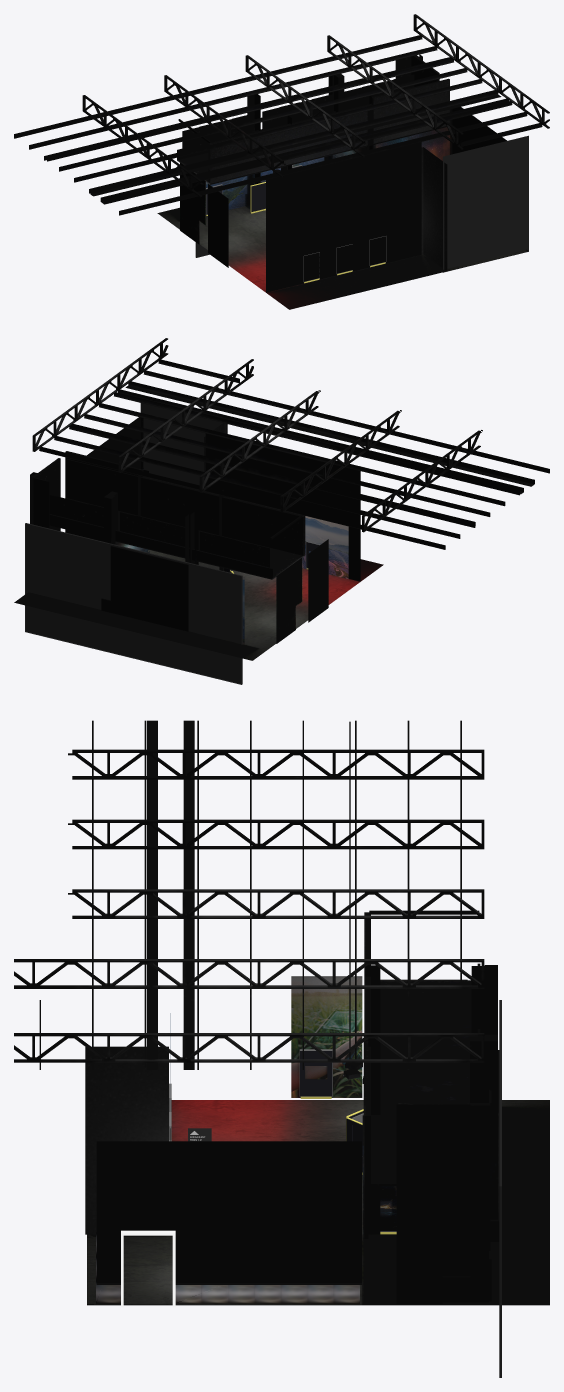
The model's file is TZ_BAKED_opaque.glb.
3 renders of one model, top to bottom at view 1: azimuth 30°, elevation 25°; view 2: azimuth 150°, elevation 25°; view 3: azimuth 270°, elevation 25°, orthographic. The views are drawn at different scales.
Parts seen in each view (by area): view 1: TZ_outer_walls, TZ_rafters, TZ_wall_fix_1, TZ_Floor, TZ_murals_01, TZ_screen_frames; view 2: TZ_outer_walls, TZ_rafters, TZ_wall_fix_2, TZ_Floor, TZ_murals_01, TZ_wall_fix_1; view 3: TZ_outer_walls, TZ_rafters, TZ_Floor, TZ_murals_01, TZ_mirror_wall, TZ_screen_frames, TZ_wall_fix_2, TZ_door_arch.
Boxes of the visible parts, x1,y1,x2,y2 form: TZ_outer_walls: (177, 54, 506, 292); TZ_rafters: (14, 14, 549, 215); TZ_wall_fix_1: (443, 135, 528, 272); TZ_Floor: (157, 205, 528, 309); TZ_murals_01: (180, 126, 452, 267); TZ_screen_frames: (206, 165, 386, 283); TZ_outer_walls: (30, 417, 360, 631); TZ_rafters: (32, 338, 549, 549); TZ_wall_fix_2: (25, 523, 242, 684); TZ_Floor: (14, 550, 383, 660); TZ_murals_01: (115, 516, 348, 644); TZ_wall_fix_1: (140, 403, 225, 485); TZ_outer_walls: (85, 912, 499, 1304); TZ_rafters: (14, 720, 484, 1069); TZ_Floor: (87, 1100, 549, 1305); TZ_murals_01: (170, 976, 467, 1234); TZ_mirror_wall: (96, 1232, 359, 1303); TZ_screen_frames: (169, 1049, 396, 1234); TZ_wall_fix_2: (499, 1000, 501, 1377); TZ_door_arch: (121, 1230, 175, 1307).
Size of the model in its own units: 38.25 by 17.27 by 24.61.
Materials: 18 (7 with a texture image).
